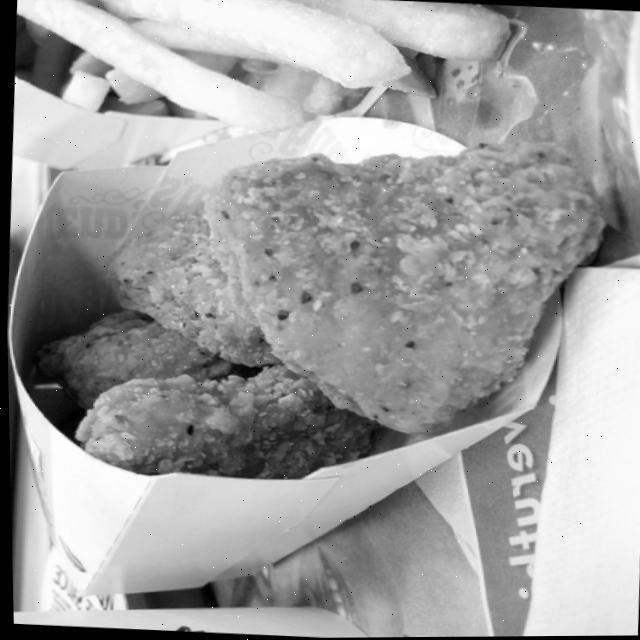鸡肉料理 含炸鸡: (8, 47, 633, 605)
